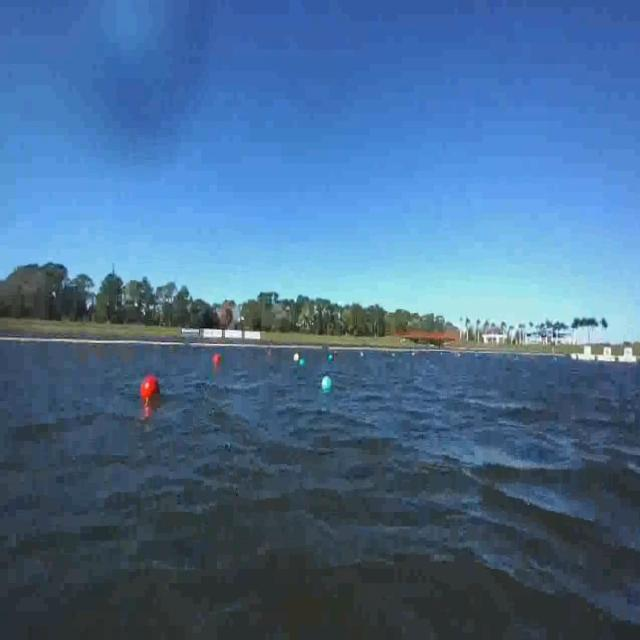green-buoy: (320, 374, 334, 392)
red-buoy: (142, 373, 161, 400)
